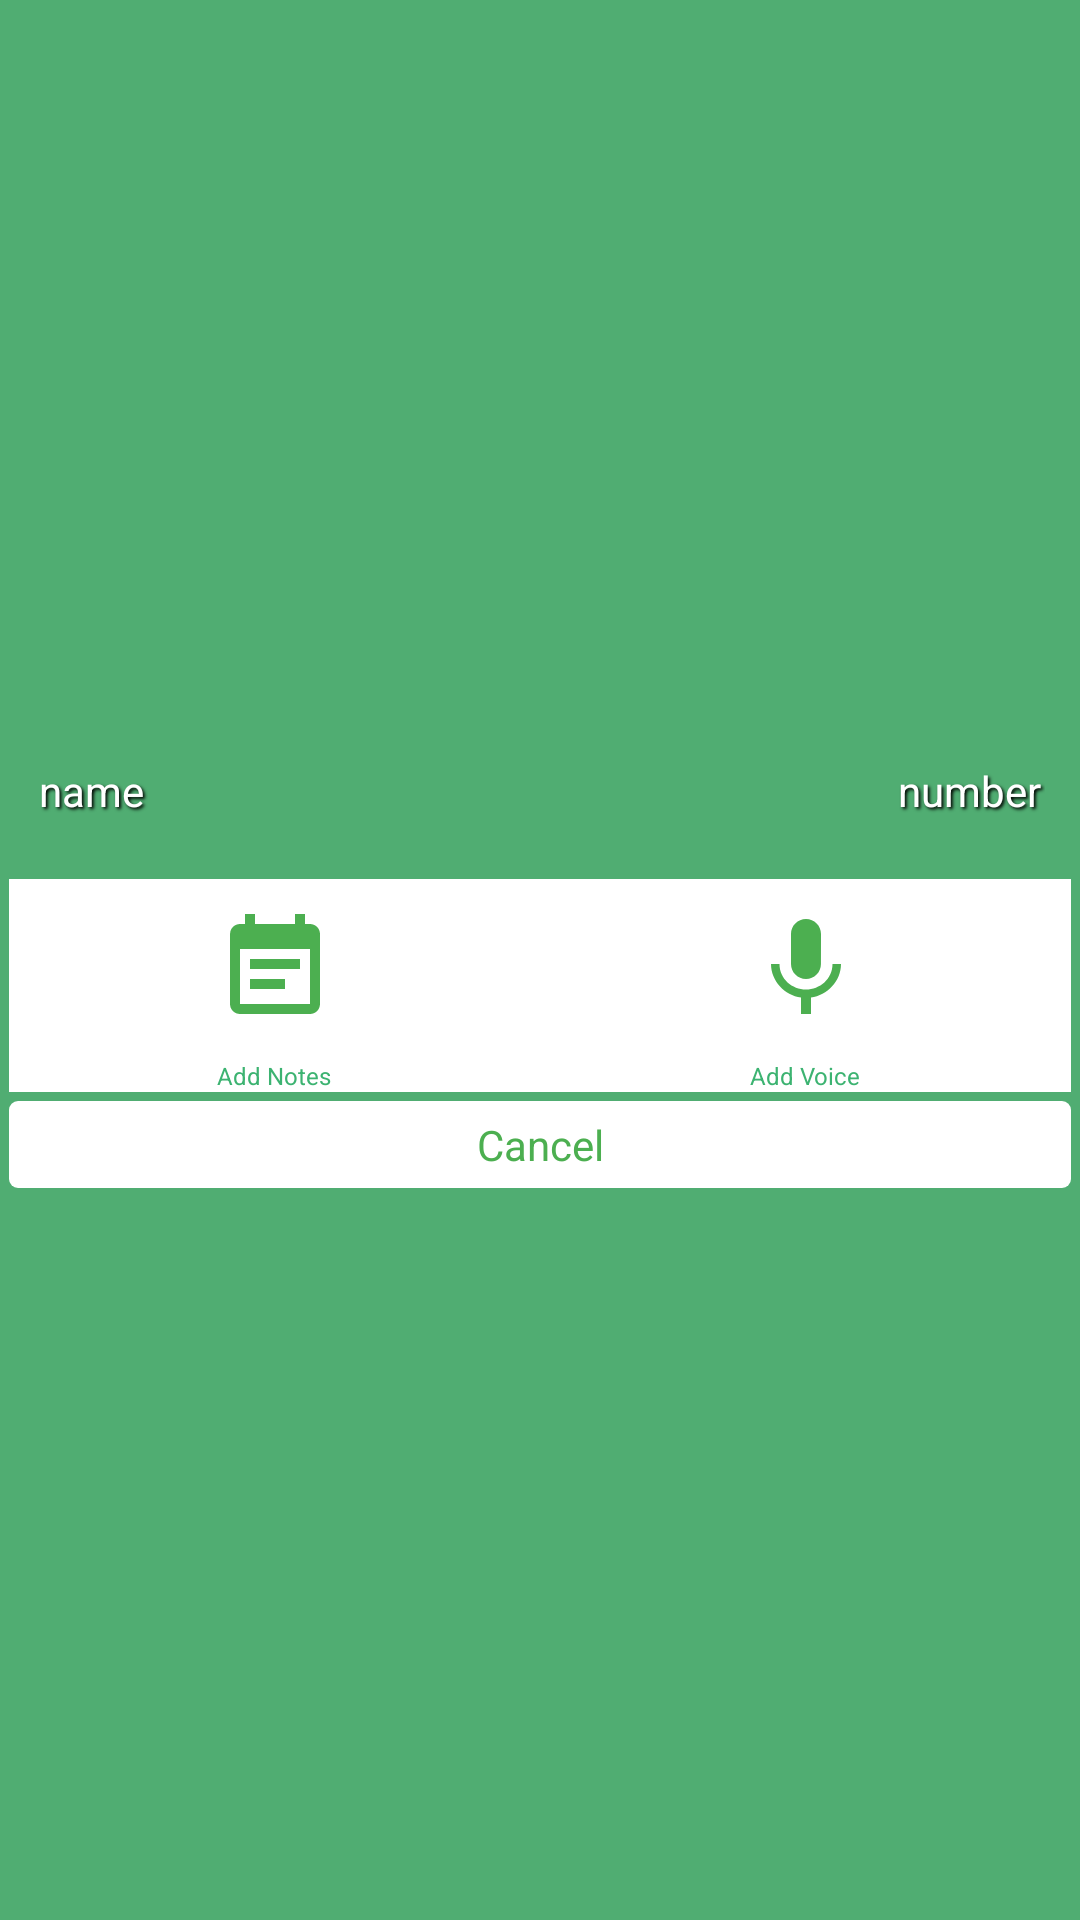

Icons on this 1080×1920 Android screen, each with its box as (x1, y1, x2, y2):
event note: (230, 914, 320, 1014)
mic: (771, 919, 841, 1014)
